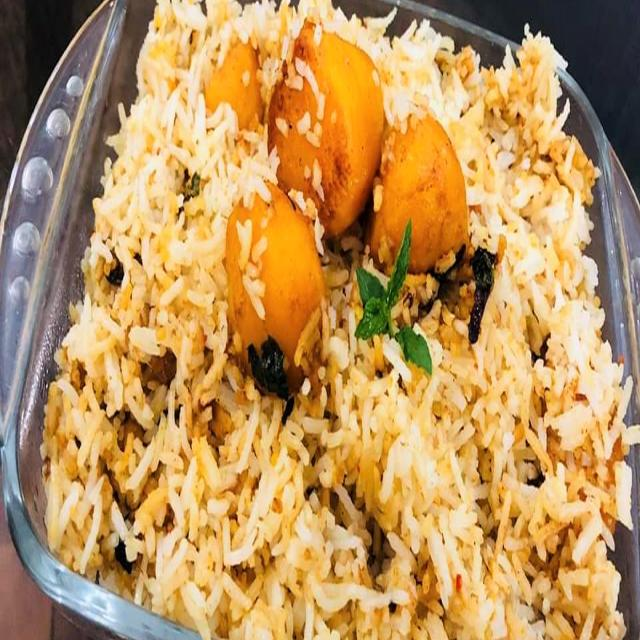Rice: (38, 0, 640, 640)
